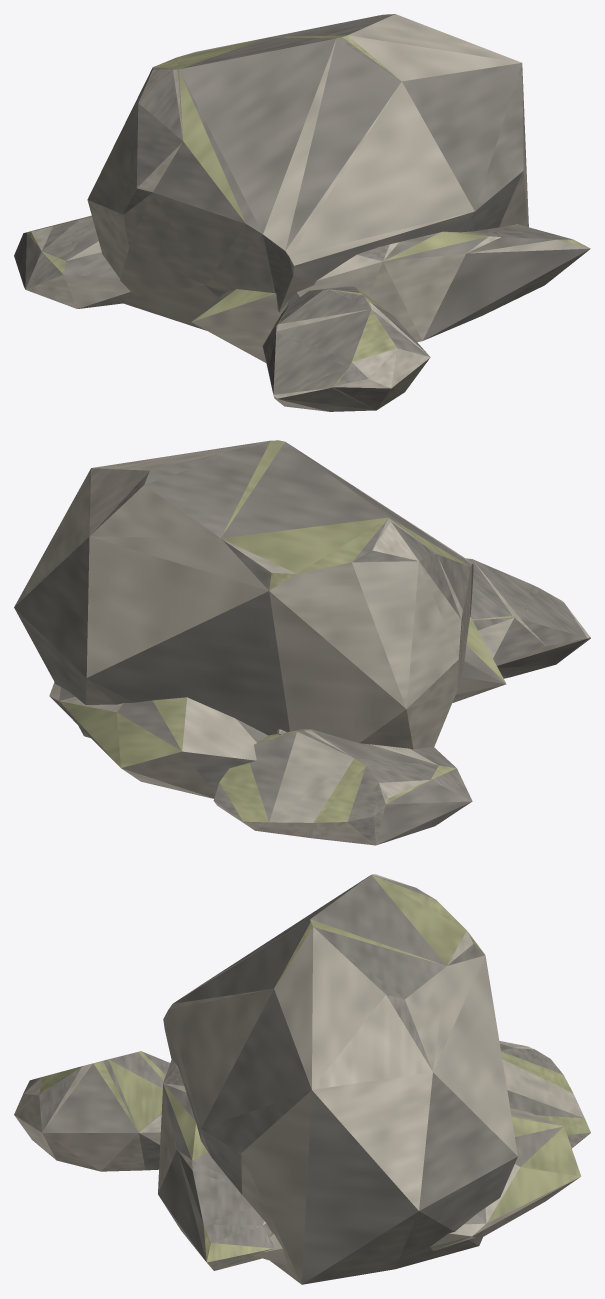
The model's file is rock_cluster_03.fbx.
3 views of the same model, one above another, from view 1: azimuth 30°, elevation 25°; view 2: azimuth 150°, elevation 25°; view 3: azimuth 270°, elevation 25° (orthographic). The views are drawn at different scales.
Parts seen in each view (by area): view 1: rock_cluster_03; view 2: rock_cluster_03; view 3: rock_cluster_03.
Boxes of the visible parts, x1=… form: rock_cluster_03: x1=14, y1=14, x2=590, y2=411; rock_cluster_03: x1=14, y1=440, x2=590, y2=845; rock_cluster_03: x1=14, y1=874, x2=590, y2=1284.
Bounding box in the file's own units: 3.83 × 2.03 × 3.97.
